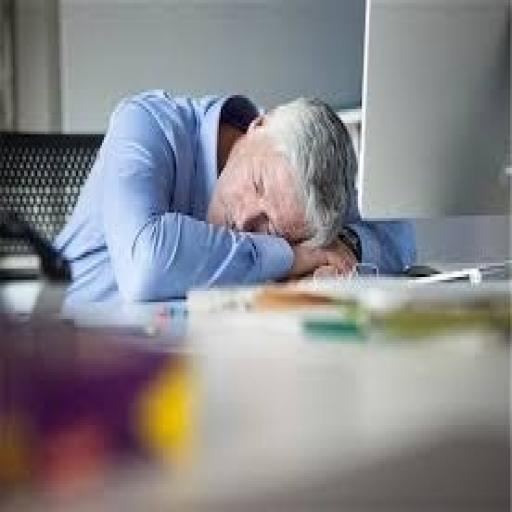sleeping: (46, 84, 418, 316)
